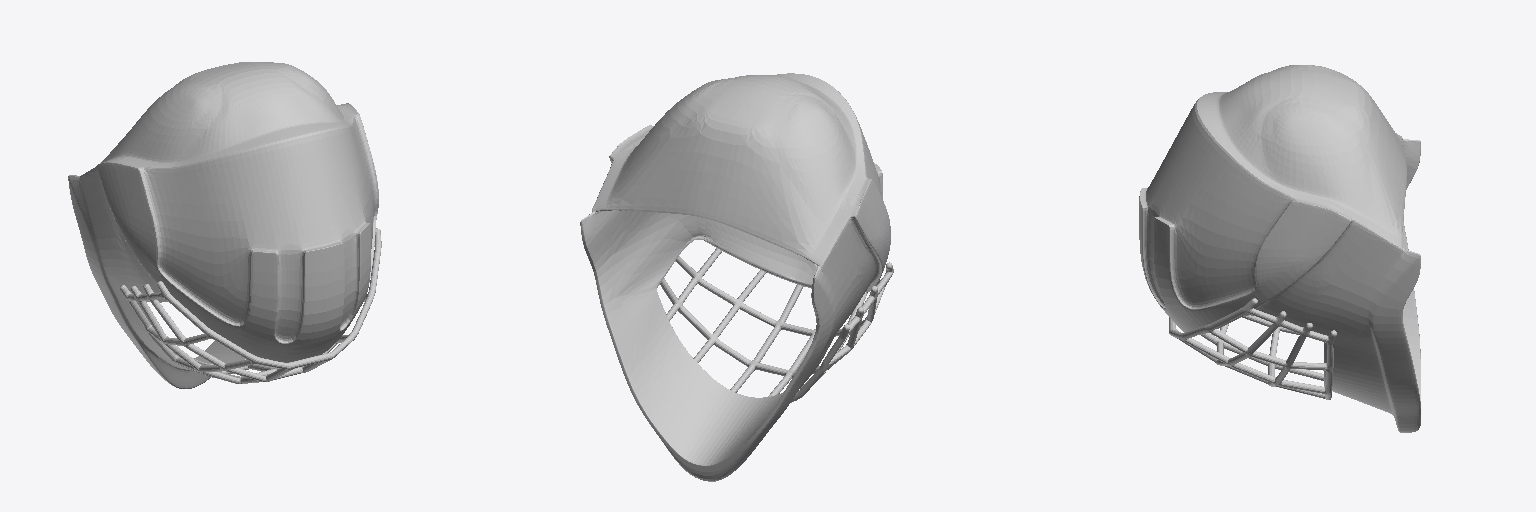
The model's file is mask.obj.
3 views of the same model, side by side, from view 1: azimuth 30°, elevation 25°; view 2: azimuth 150°, elevation 25°; view 3: azimuth 270°, elevation 25° (orthographic).
Parts seen in each view (by area): view 1: 10510_Hockey_Goalie_Mask; view 2: 10510_Hockey_Goalie_Mask; view 3: 10510_Hockey_Goalie_Mask.
Part boxes in pixels (bbox=[...]): 10510_Hockey_Goalie_Mask: bbox=[68, 62, 381, 388]; 10510_Hockey_Goalie_Mask: bbox=[580, 73, 893, 481]; 10510_Hockey_Goalie_Mask: bbox=[1139, 65, 1420, 432].
Bounding box in the file's own units: 27.07 × 36.78 × 26.71.